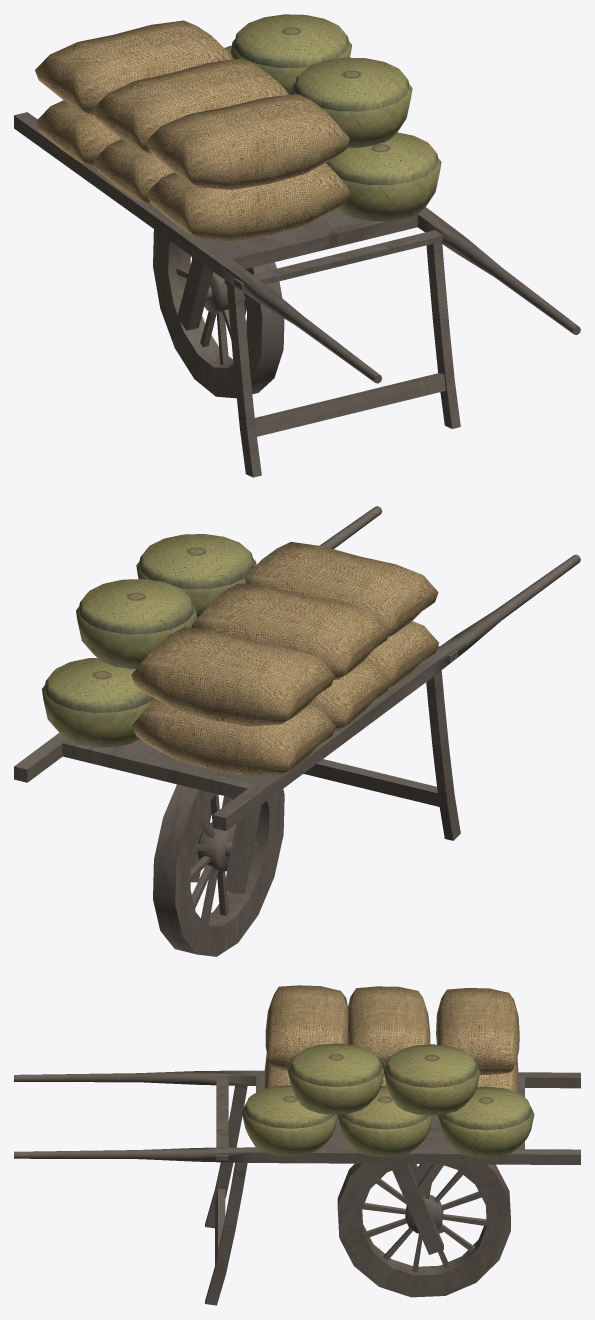
The picture shows the model from 3 angles, top to bottom: view 1: azimuth 30°, elevation 25°; view 2: azimuth 150°, elevation 25°; view 3: azimuth 270°, elevation 25°; orthographic projection. The views are drawn at different scales.
Parts seen in each view (by area): view 1: Trollet, Burlap Bag4, Burlap Bag5, Burlap Bag2, Burlap Bag3, bamboo basket3, bamboo basket2, bamboo basket4, Burlap Bag1, Burlap Bag; view 2: Trollet, Burlap Bag2, Burlap Bag3, Burlap Bag1, Burlap Bag4, bamboo basket4, bamboo basket, bamboo basket3, Burlap Bag, Burlap Bag5; view 3: Trollet, Burlap Bag2, bamboo basket4, bamboo basket3, Burlap Bag4, bamboo basket, Burlap Bag3, bamboo basket2, bamboo basket1, Burlap Bag1, Burlap Bag5.
Boxes of the visible parts, box(x1,y1,x2,y2) form: Trollet: box(14, 112, 580, 477); Burlap Bag4: box(146, 94, 349, 189); Burlap Bag5: box(146, 163, 349, 241); Burlap Bag2: box(35, 20, 233, 115); Burlap Bag3: box(92, 58, 289, 154); bamboo basket3: box(291, 57, 412, 147); bamboo basket2: box(326, 132, 441, 221); bamboo basket4: box(231, 14, 351, 94); Burlap Bag1: box(35, 100, 120, 167); Burlap Bag: box(93, 139, 173, 205); Trollet: box(14, 506, 580, 956); Burlap Bag2: box(131, 627, 334, 726); Burlap Bag3: box(191, 583, 390, 679); Burlap Bag1: box(132, 699, 335, 776); Burlap Bag4: box(244, 542, 438, 637); bamboo basket4: box(76, 579, 196, 668); bamboo basket: box(41, 658, 155, 747); bamboo basket3: box(136, 534, 256, 618); Burlap Bag: box(309, 660, 390, 730); Burlap Bag5: box(365, 621, 438, 687); Trollet: box(14, 1070, 580, 1305); Burlap Bag2: box(436, 988, 519, 1074); bamboo basket4: box(384, 1044, 480, 1115); bamboo basket3: box(287, 1043, 383, 1114); Burlap Bag4: box(265, 985, 348, 1070); bamboo basket: box(438, 1086, 534, 1157); Burlap Bag3: box(348, 986, 430, 1069); bamboo basket2: box(241, 1085, 337, 1156); bamboo basket1: box(337, 1086, 433, 1157); Burlap Bag1: box(477, 1058, 518, 1092); Burlap Bag5: box(264, 1053, 290, 1088).
Bounding box in the file's own units: 74.73 × 93.36 × 179.
